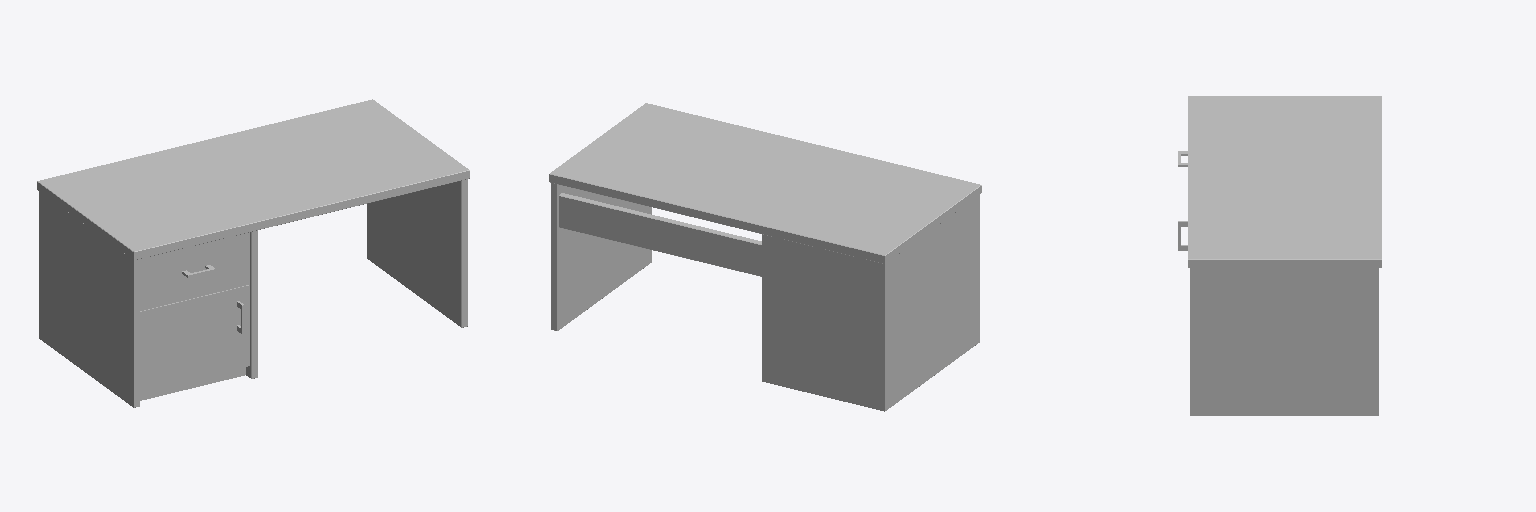
The model's file is Desk1 Polygon.obj.
3 views of the same model, side by side, from view 1: azimuth 30°, elevation 25°; view 2: azimuth 150°, elevation 25°; view 3: azimuth 270°, elevation 25° (orthographic).
Visible parts, largest first — view 1: Desk_2, Door2_3, Door1_4; view 2: Desk_2; view 3: Desk_2.
Part boxes in pixels (left/top/right/bottom): Desk_2: left=37, top=99, right=469, bottom=407; Door2_3: left=140, top=285, right=249, bottom=392; Door1_4: left=140, top=232, right=249, bottom=310; Desk_2: left=549, top=103, right=981, bottom=411; Desk_2: left=1188, top=96, right=1381, bottom=415.
Bounding box in the file's own units: 400 × 179 × 210.